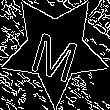M_N: (27, 18, 83, 80)
